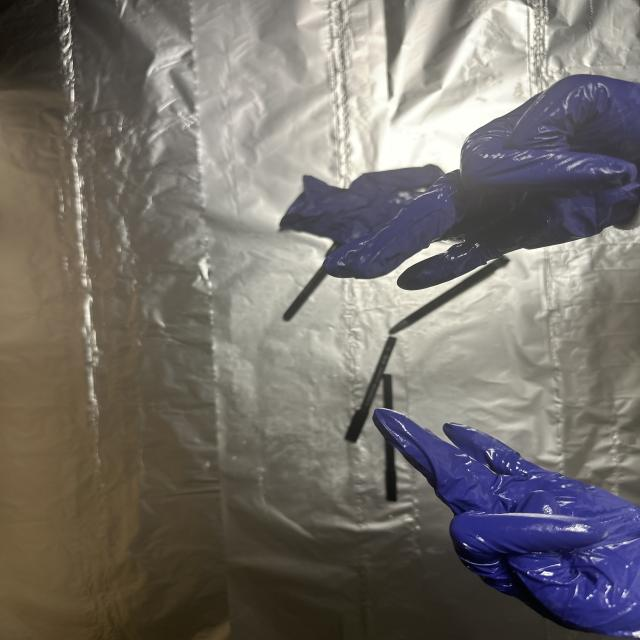gloves_contaminated: (325, 76, 640, 290), (373, 409, 640, 638)
